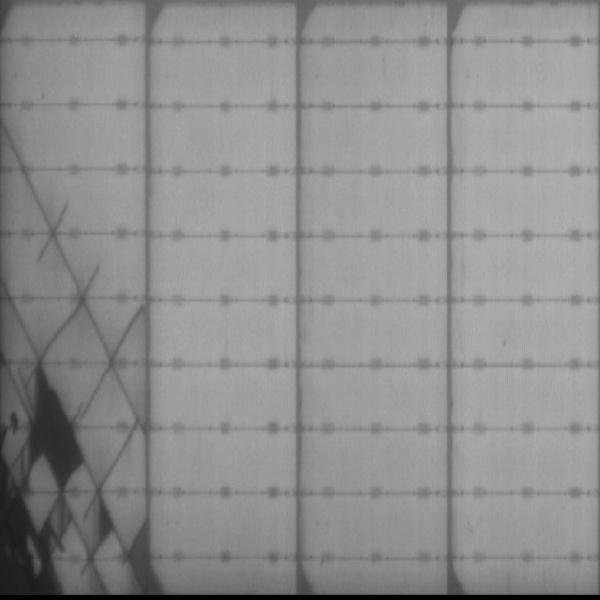broken: (1, 118, 147, 597)
